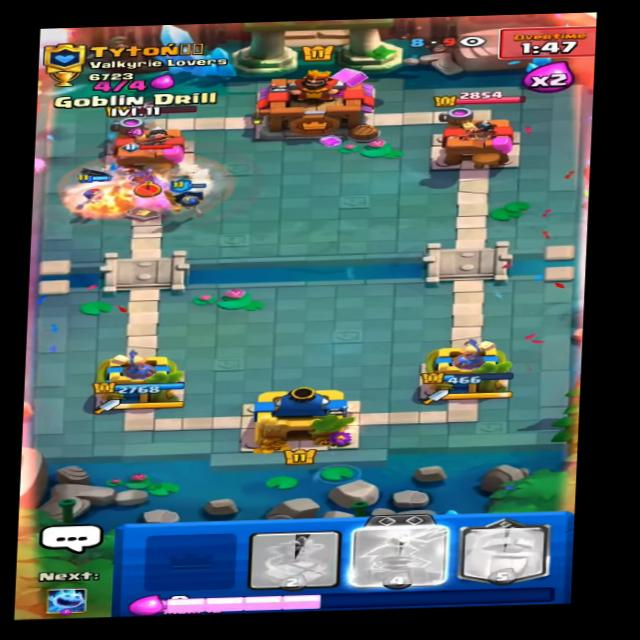evo-wizard: (110, 156, 190, 194)
